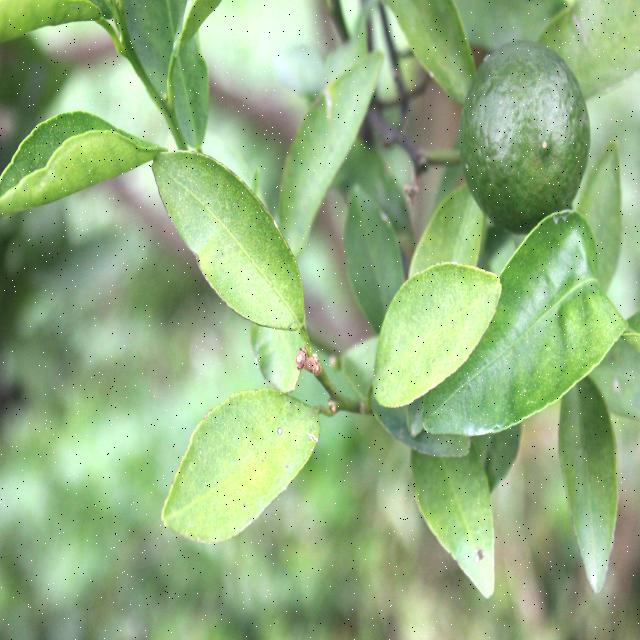blackspot: (183, 178, 301, 326), (178, 413, 290, 528), (383, 267, 481, 387)
